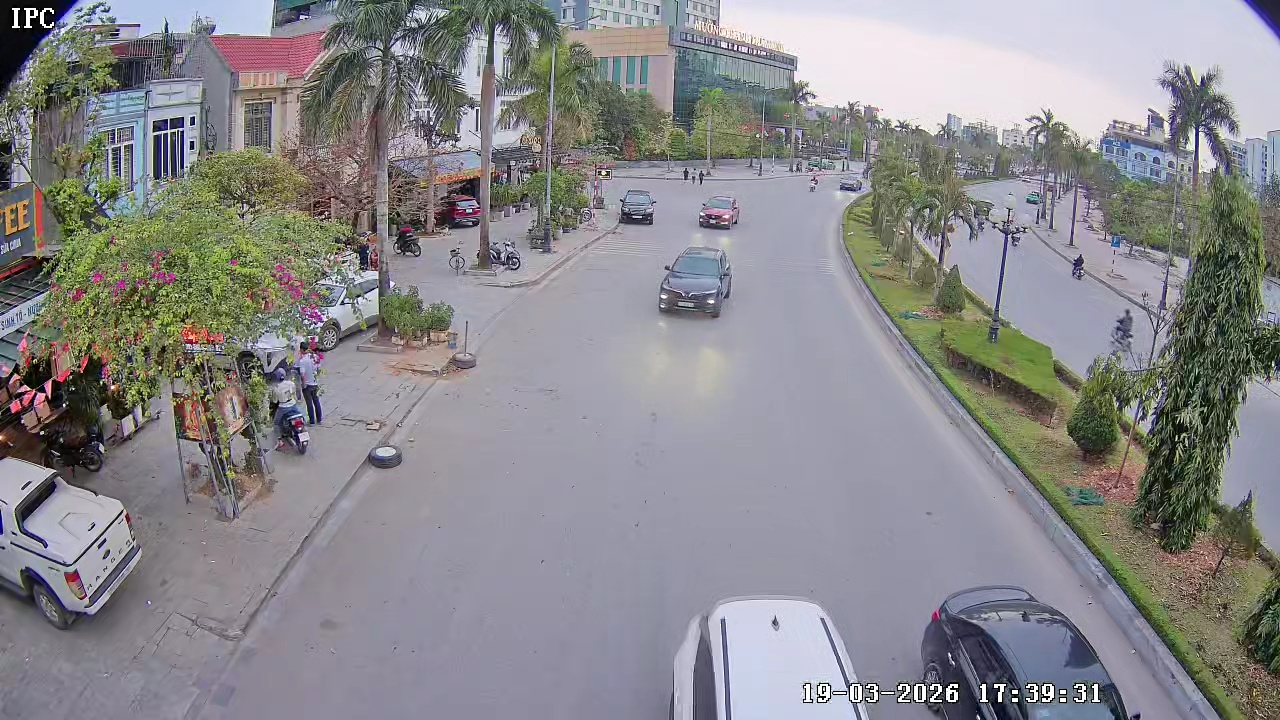bike: (441, 326, 479, 373)
car: (902, 583, 1137, 719), (667, 593, 884, 719), (0, 477, 142, 628), (657, 243, 733, 317), (697, 192, 741, 230), (618, 186, 657, 224)
